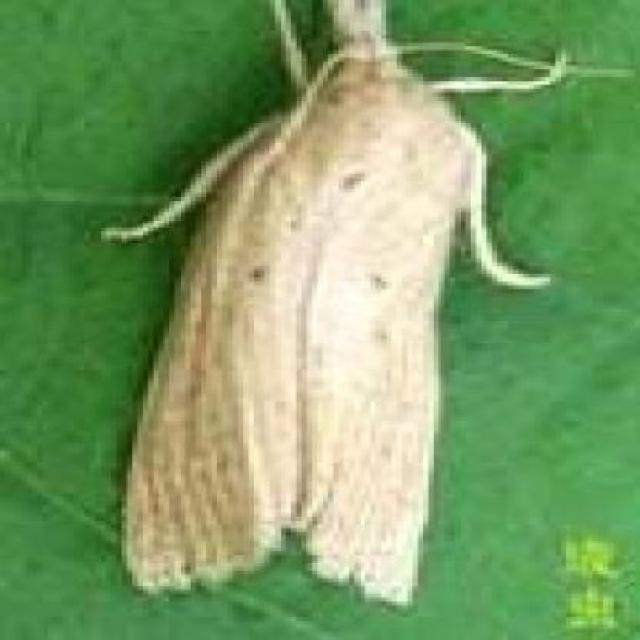stem-borer: (92, 0, 551, 605)
